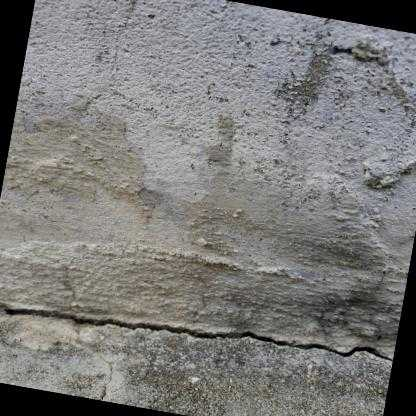crack: (0, 305, 393, 361)
